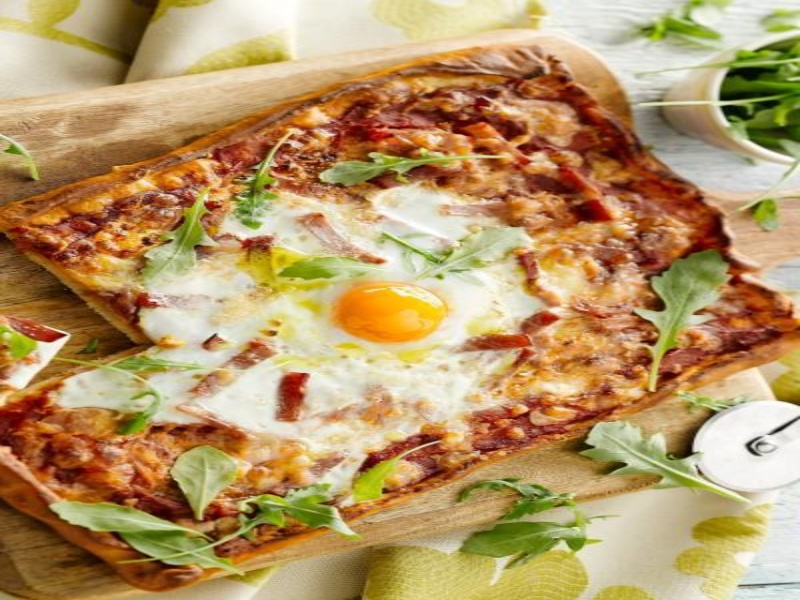oeuf: (311, 267, 464, 366)
